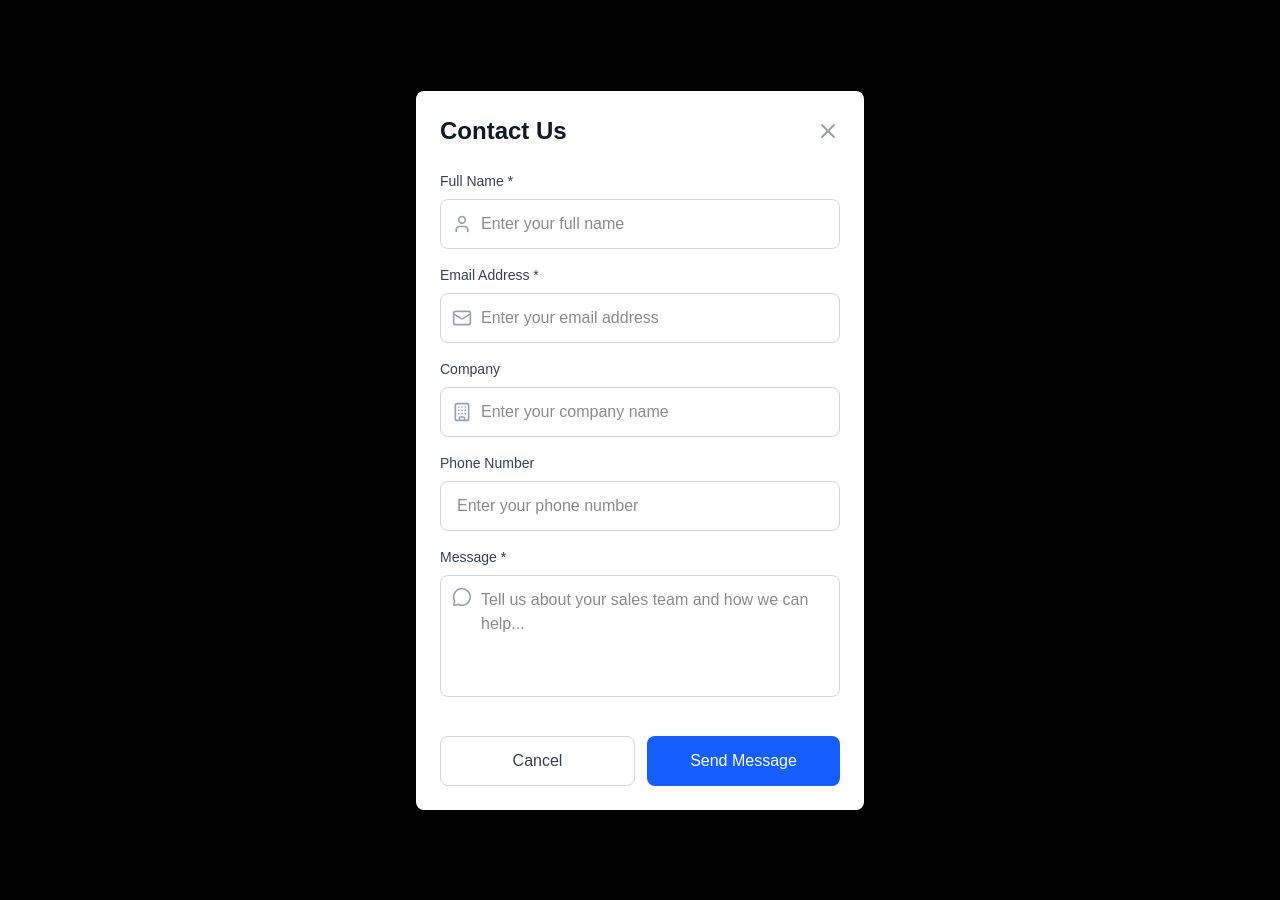
Test: ContactForm Component › shows loading state during submission
// Fill minimal required fields
Type "John" into the field labelled "Full Name *" at (640, 224), box [440,198,840,248]
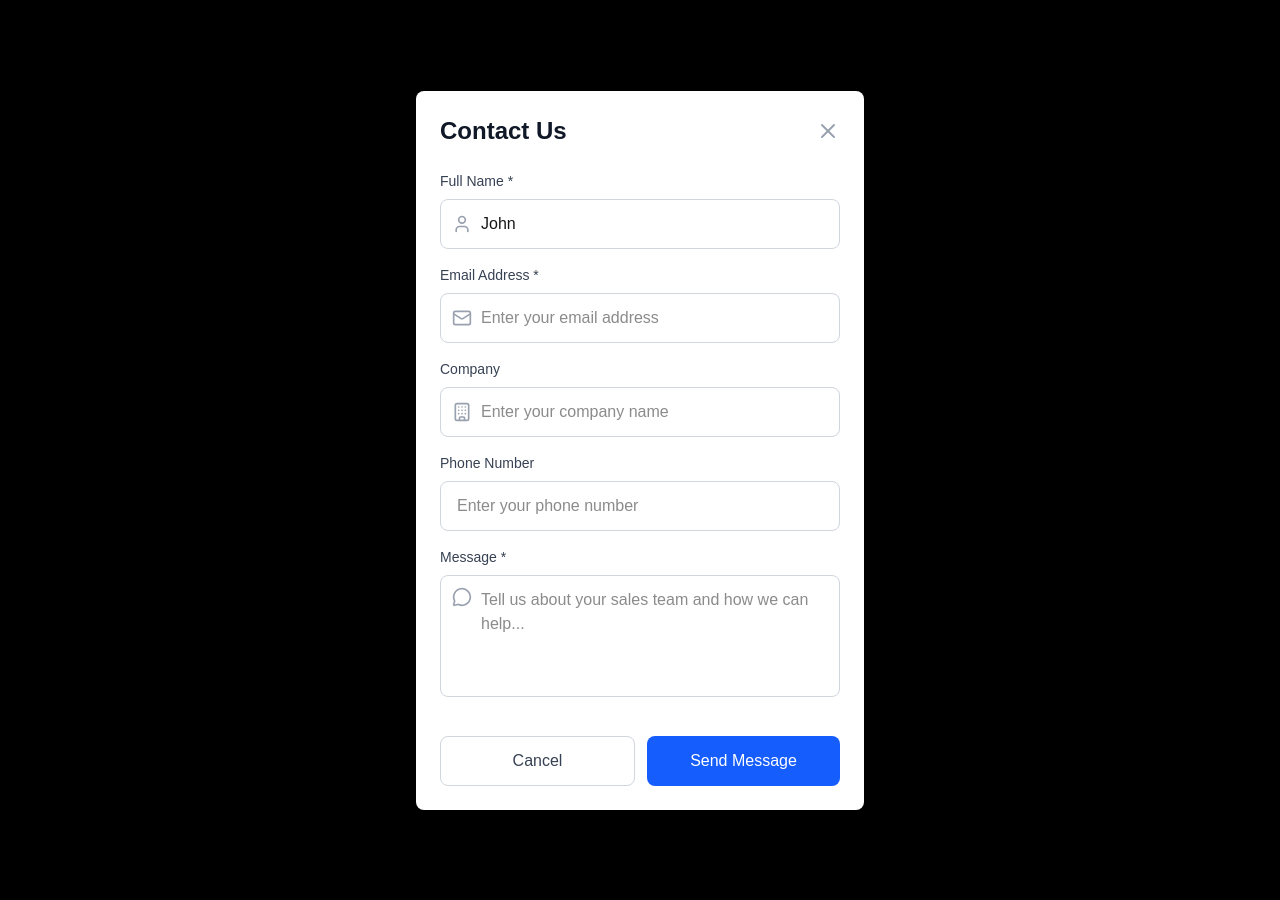
Type "john@example.com" into the field labelled "Email Address *" at (640, 318), box [440,292,840,342]
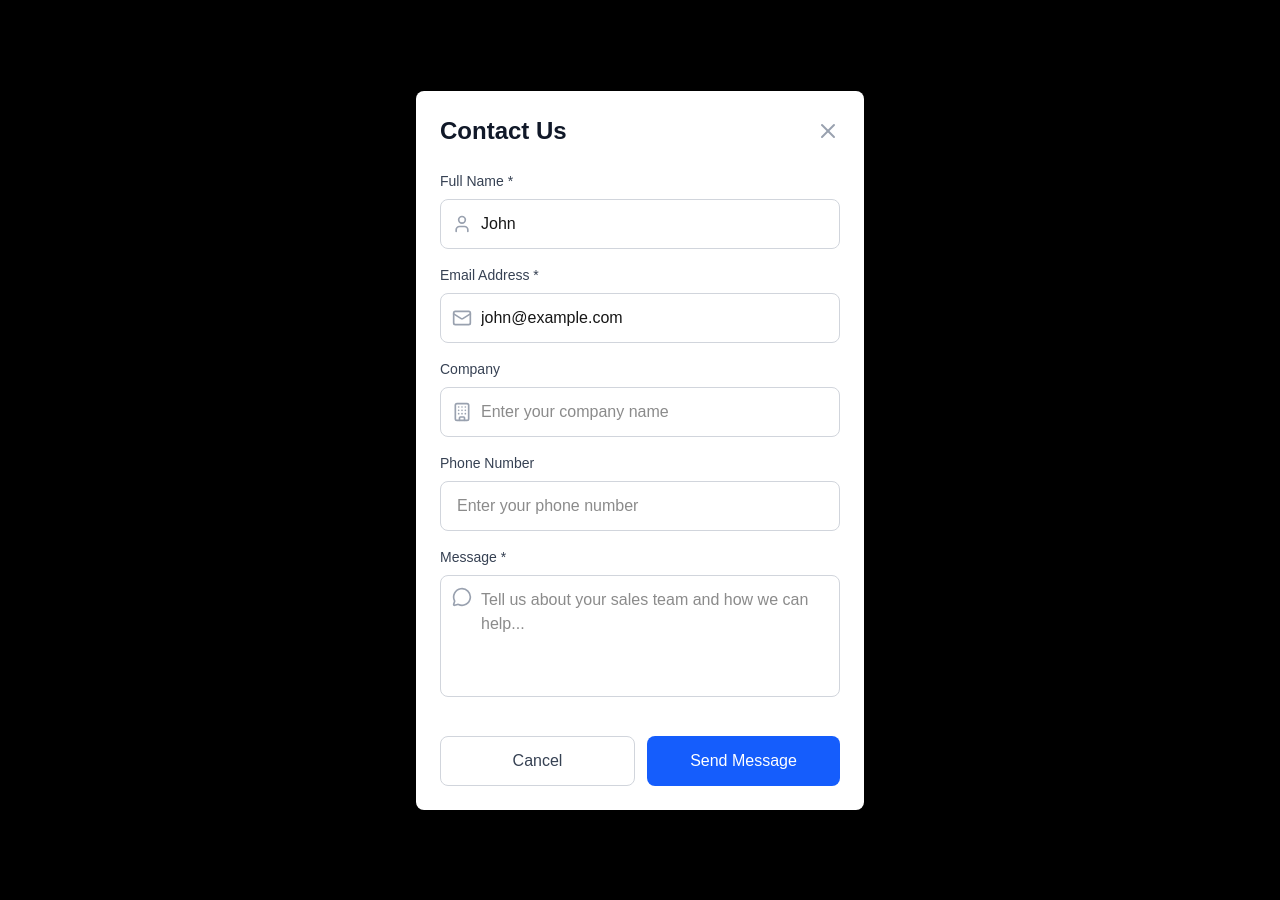
Type "Test" into the text box labelled "Message *" at (640, 636), box [440,574,840,696]
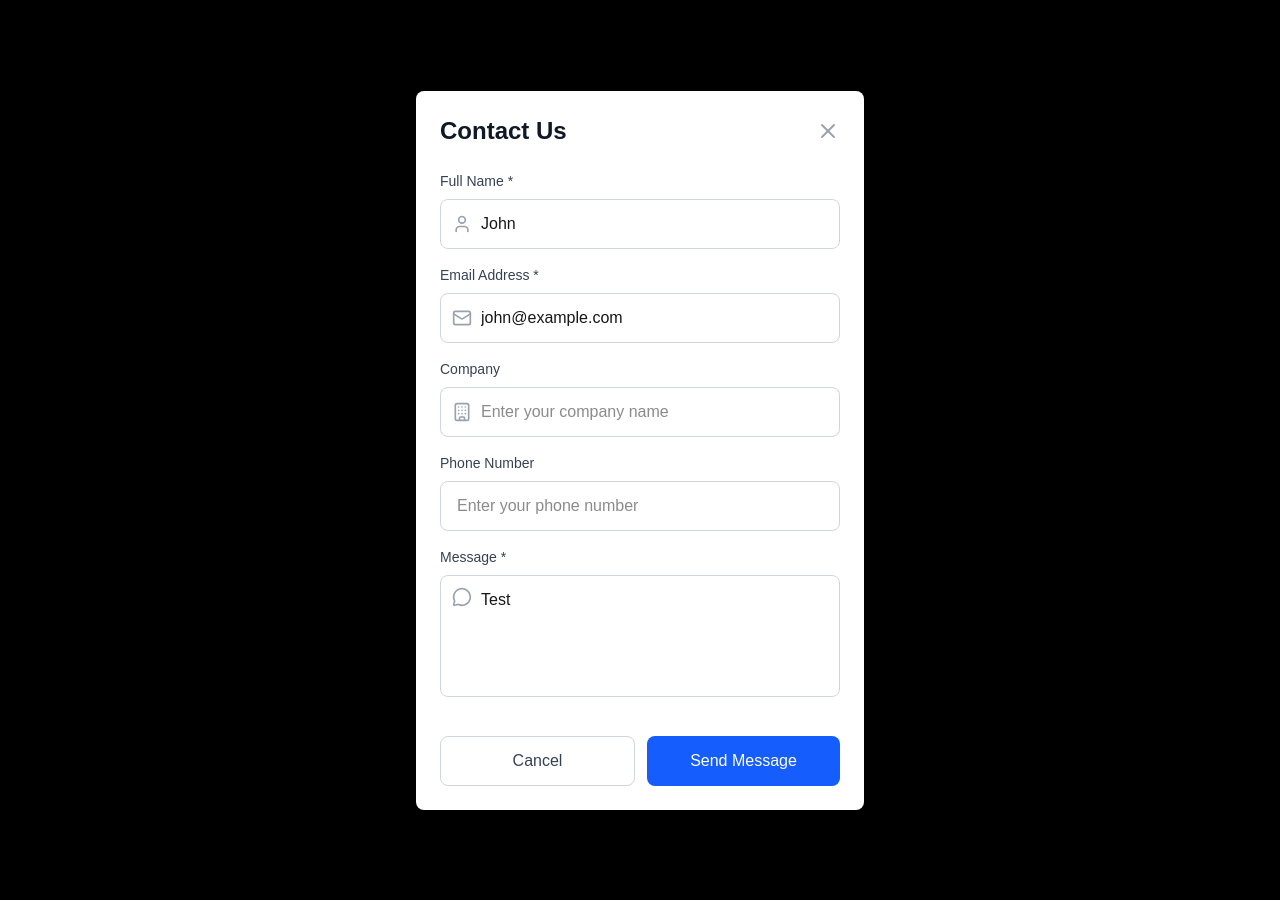
Click the button "Send Message" at (744, 760), box [647,736,840,786]
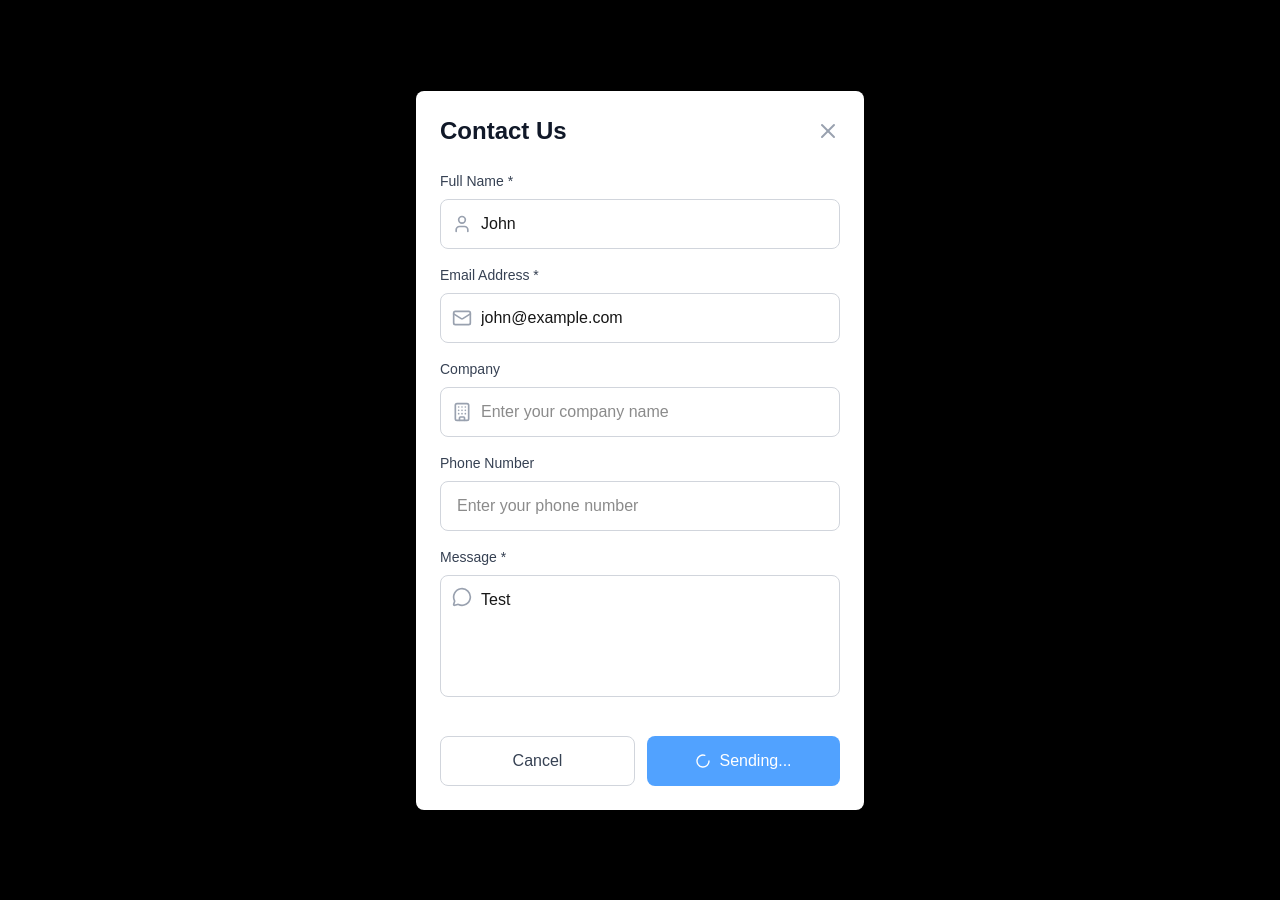
Check: the button "Sending..." is disabled, box [647,736,840,786]
